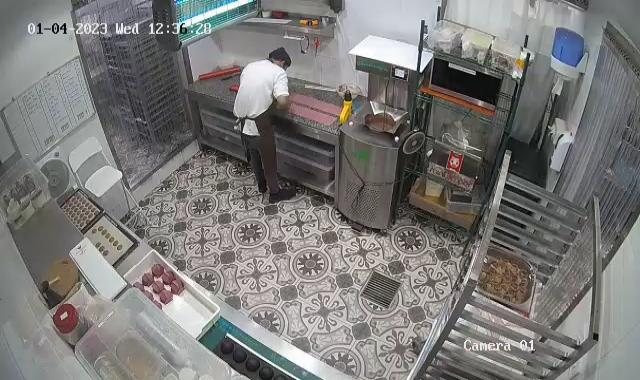no_hairnet: (267, 44, 292, 68)
